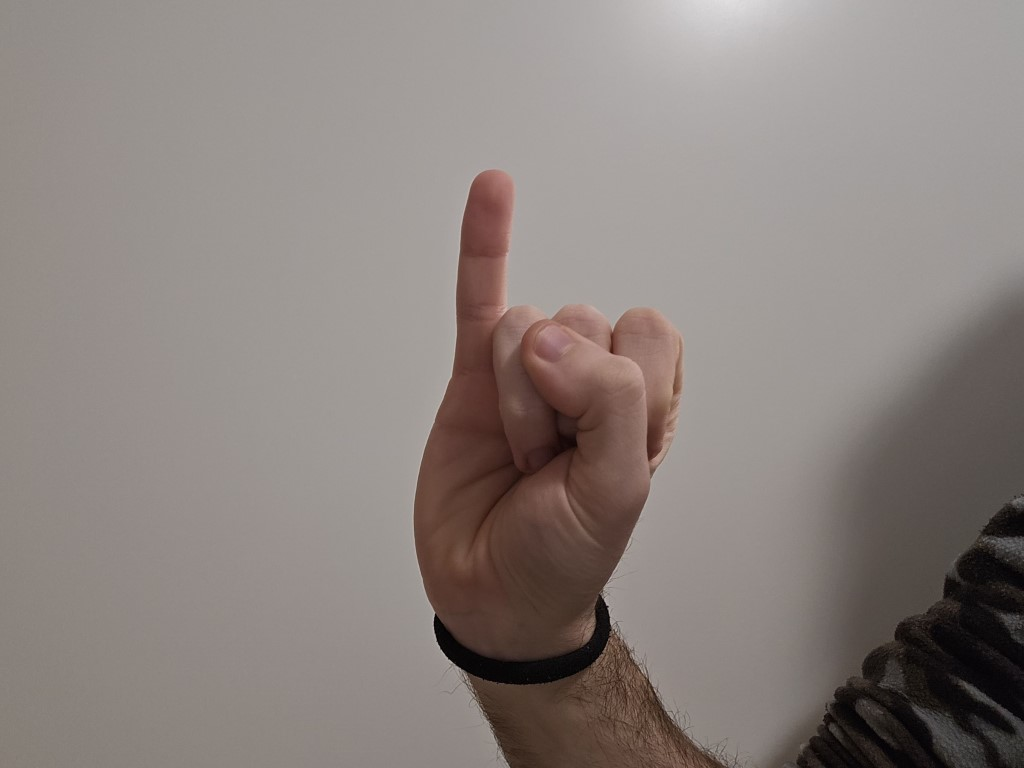i: (404, 158, 698, 604)
